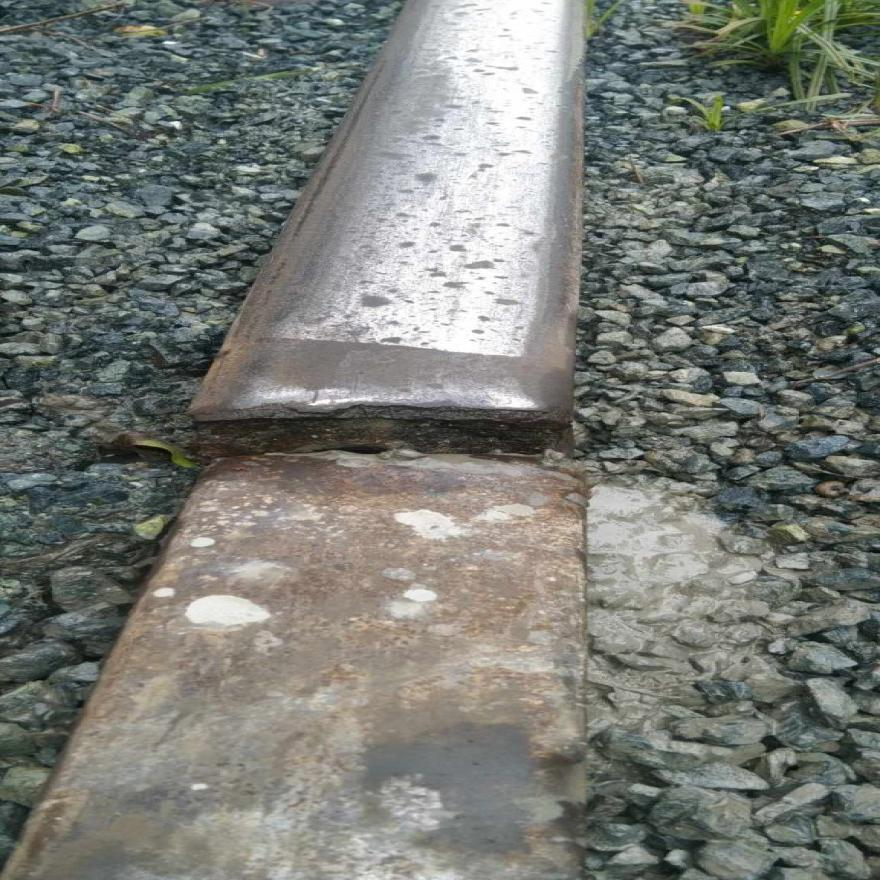railway-gap: (51, 290, 685, 565)
